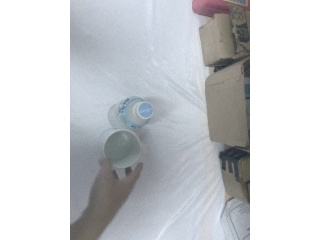bottle: (108, 96, 154, 131)
box: (204, 57, 250, 149), (200, 14, 235, 66), (220, 147, 250, 203)
cup: (97, 128, 142, 169)
